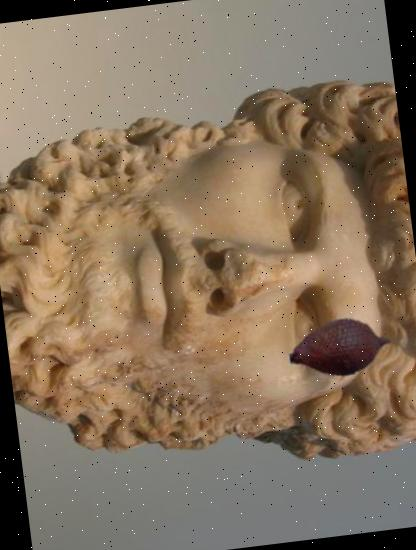Salak: (283, 292, 398, 406)
